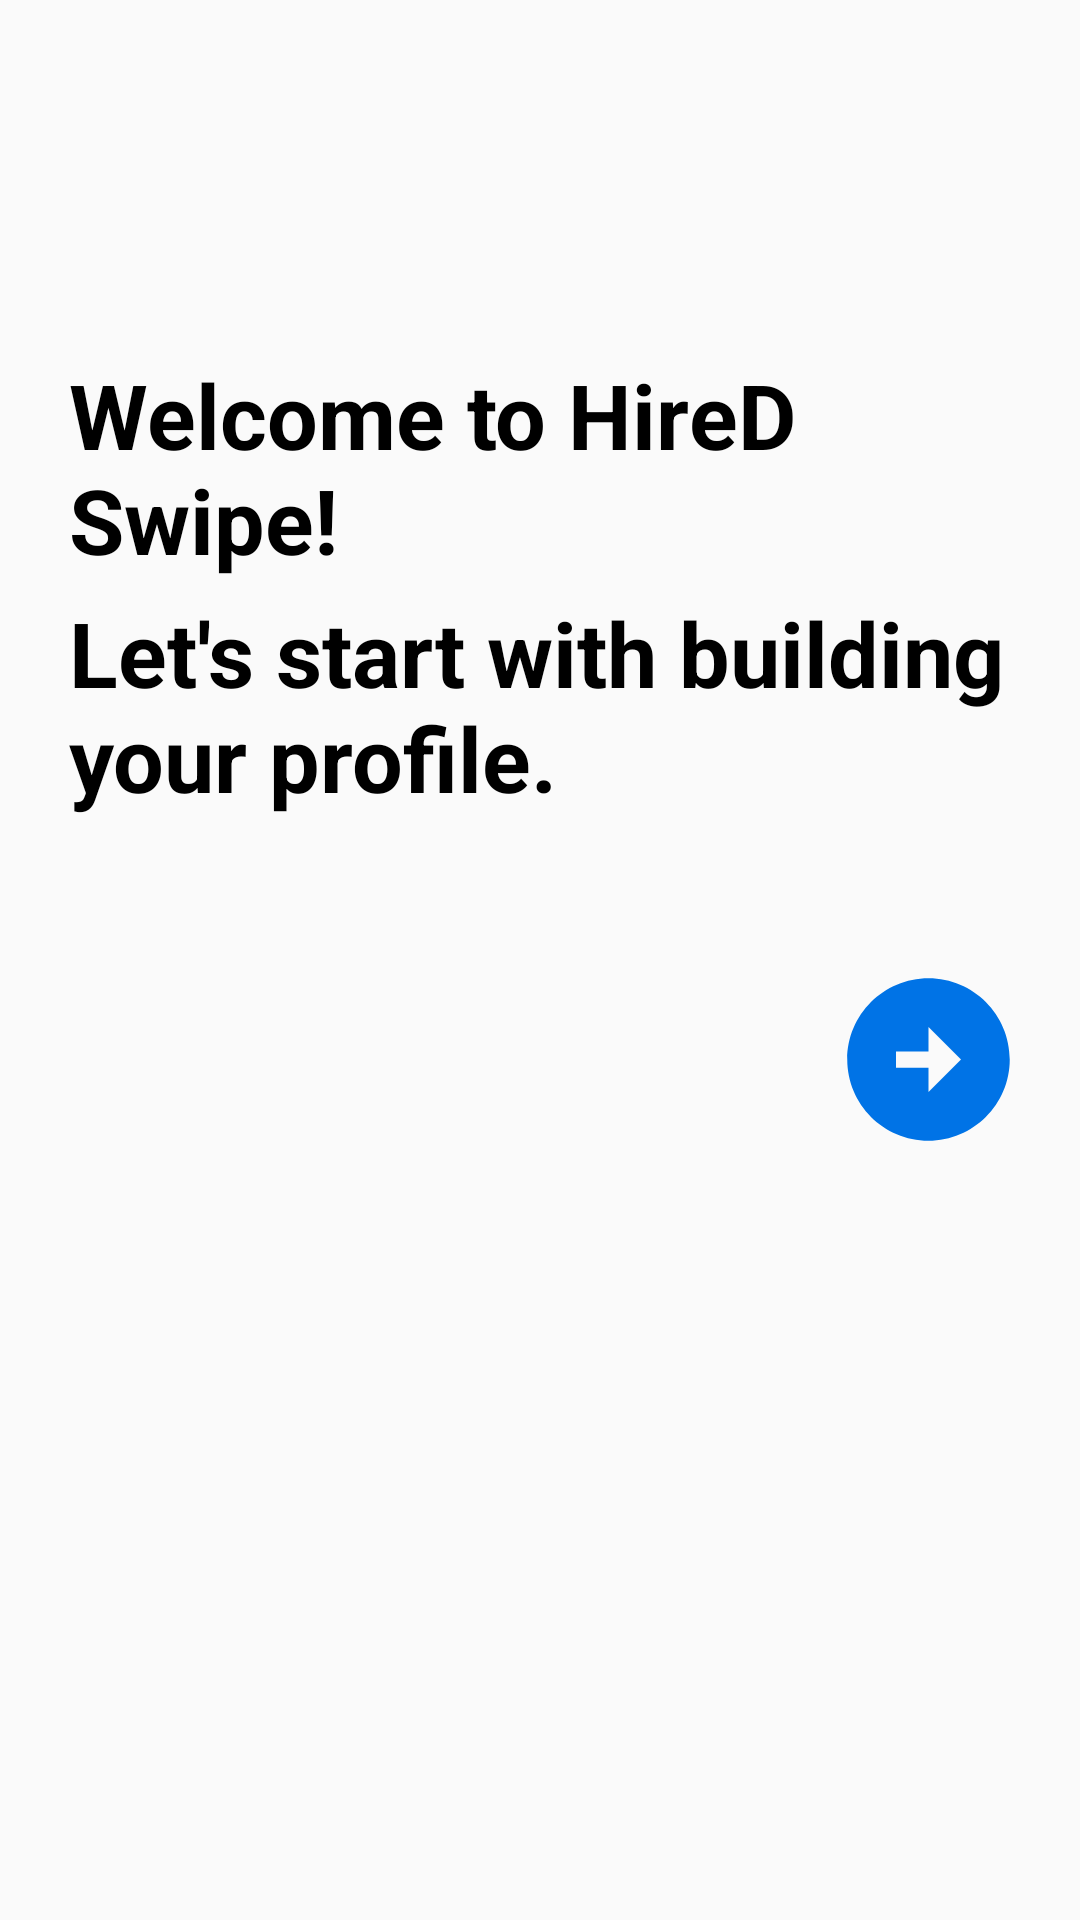

Icons on this 1080px x 1920px Android screen, each with its box as box(x1, y1, x2, y2):
arrow: box(847, 978, 1010, 1141)
